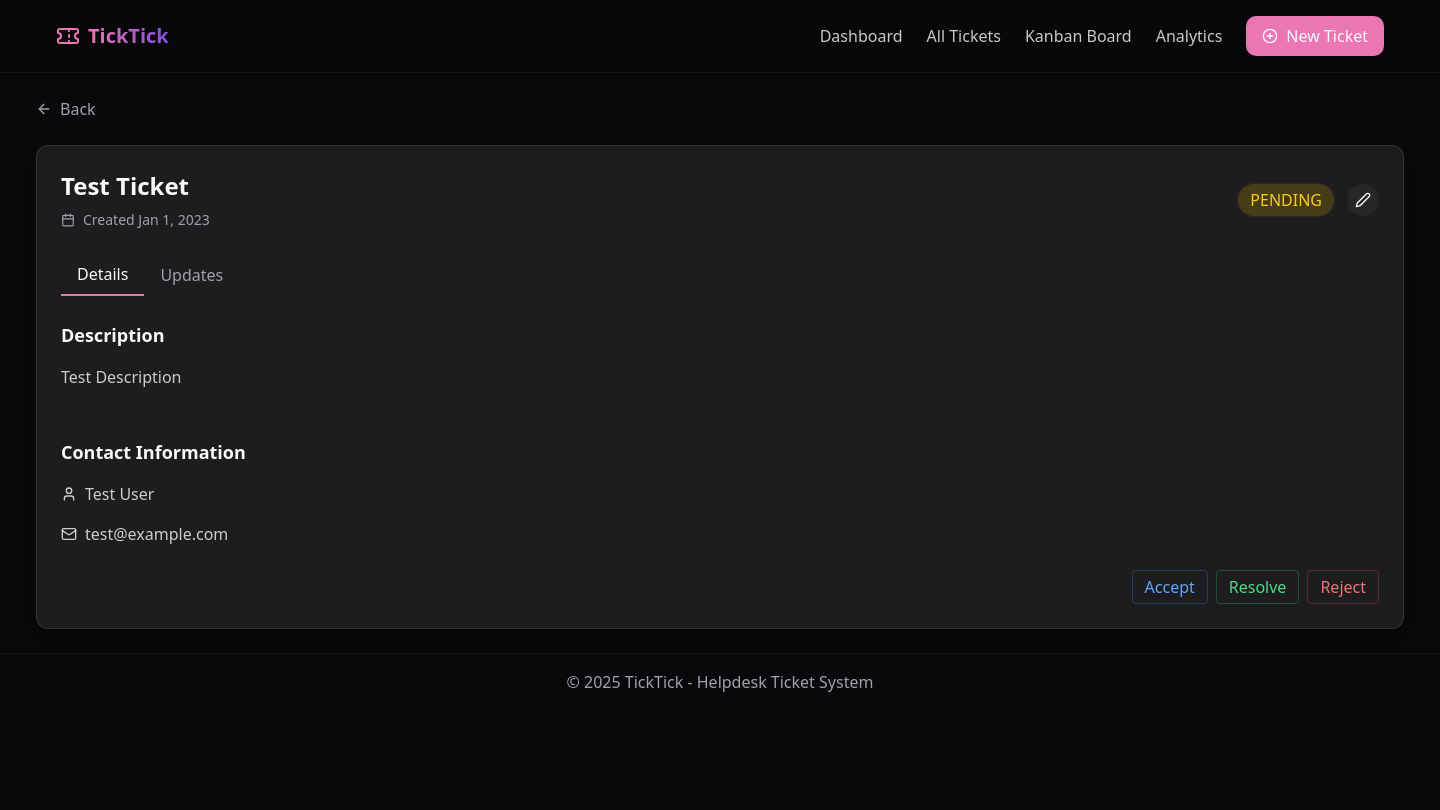
Test case: Ticket Detail Page › can switch between Details and Updates tabs
The width and height of the screenshot is (1440, 810).
Expected: the heading "Description" is shown, [61, 323, 164, 347]
Click on Updates tab
Click the button "Updates" at (192, 275), box [144, 254, 239, 296]
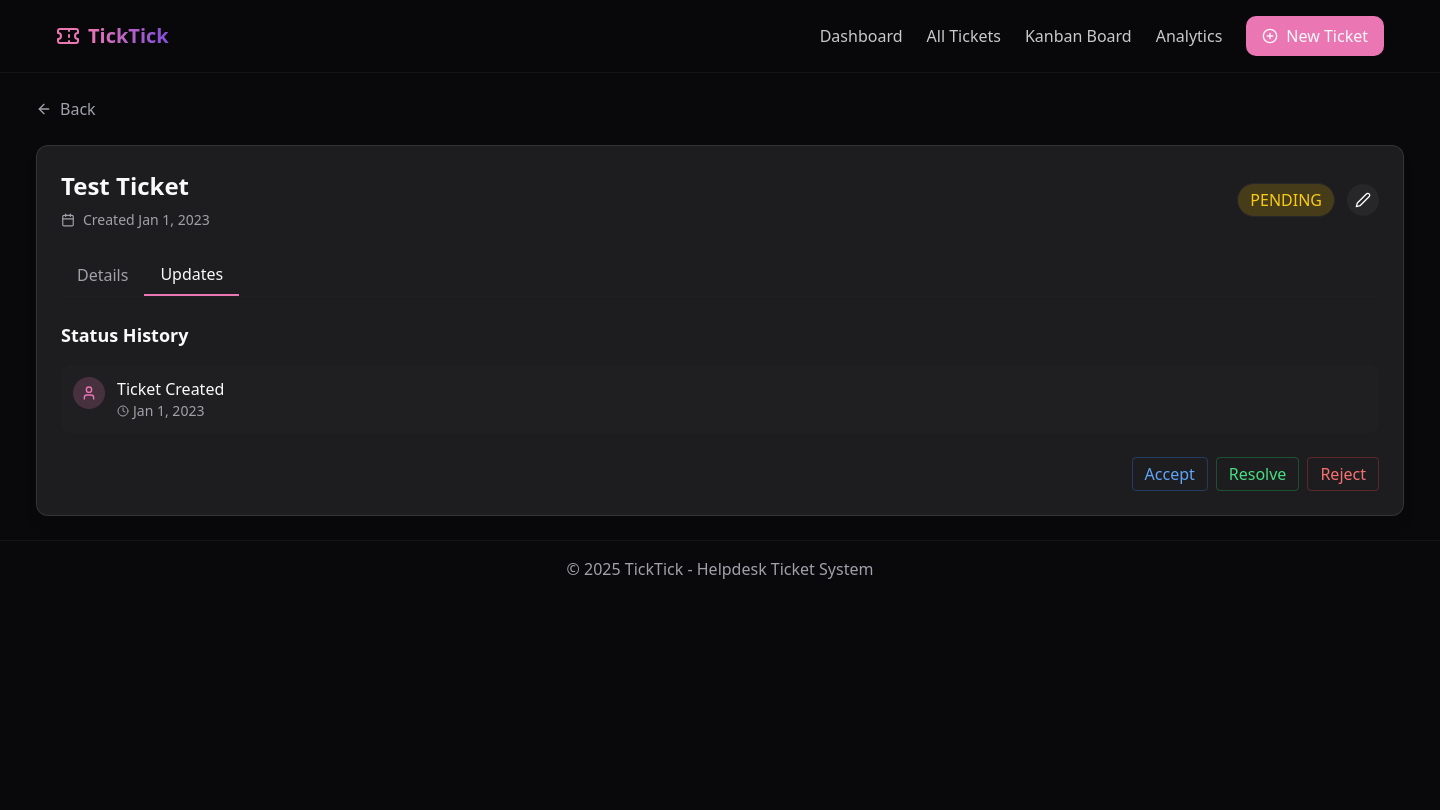
Expected: the heading "Status History" is shown, [61, 321, 188, 349]
Expected: the text "Ticket Created" is shown, [117, 377, 224, 401]
Click back to Details tab
Click the button "Details" at (103, 275), box [61, 254, 144, 296]
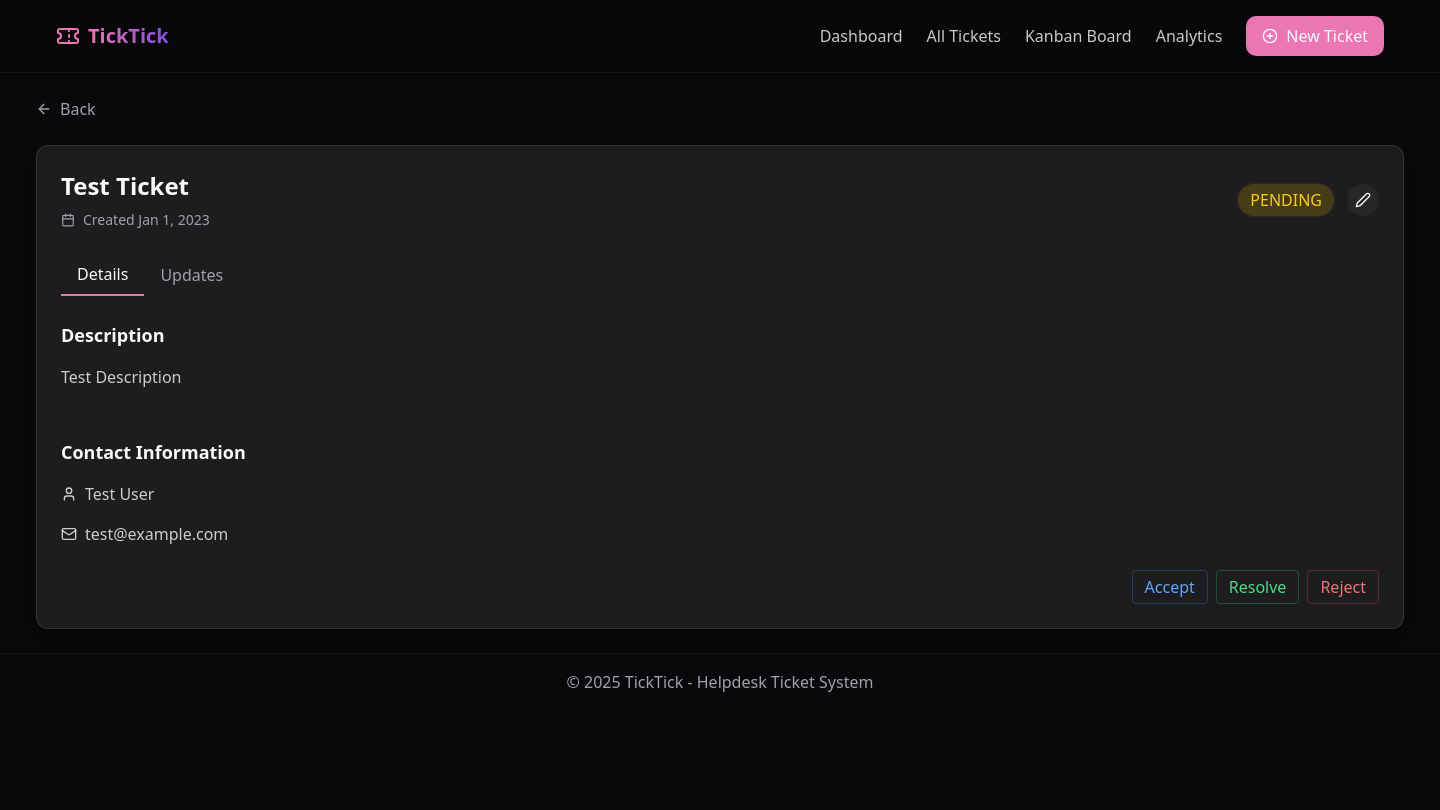
Expected: the heading "Description" is shown, [61, 323, 164, 347]
